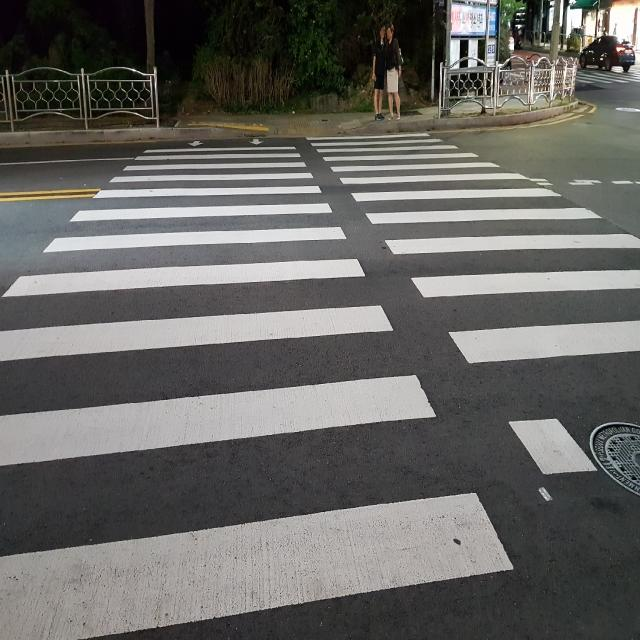횡단보도: (0, 130, 640, 639)
